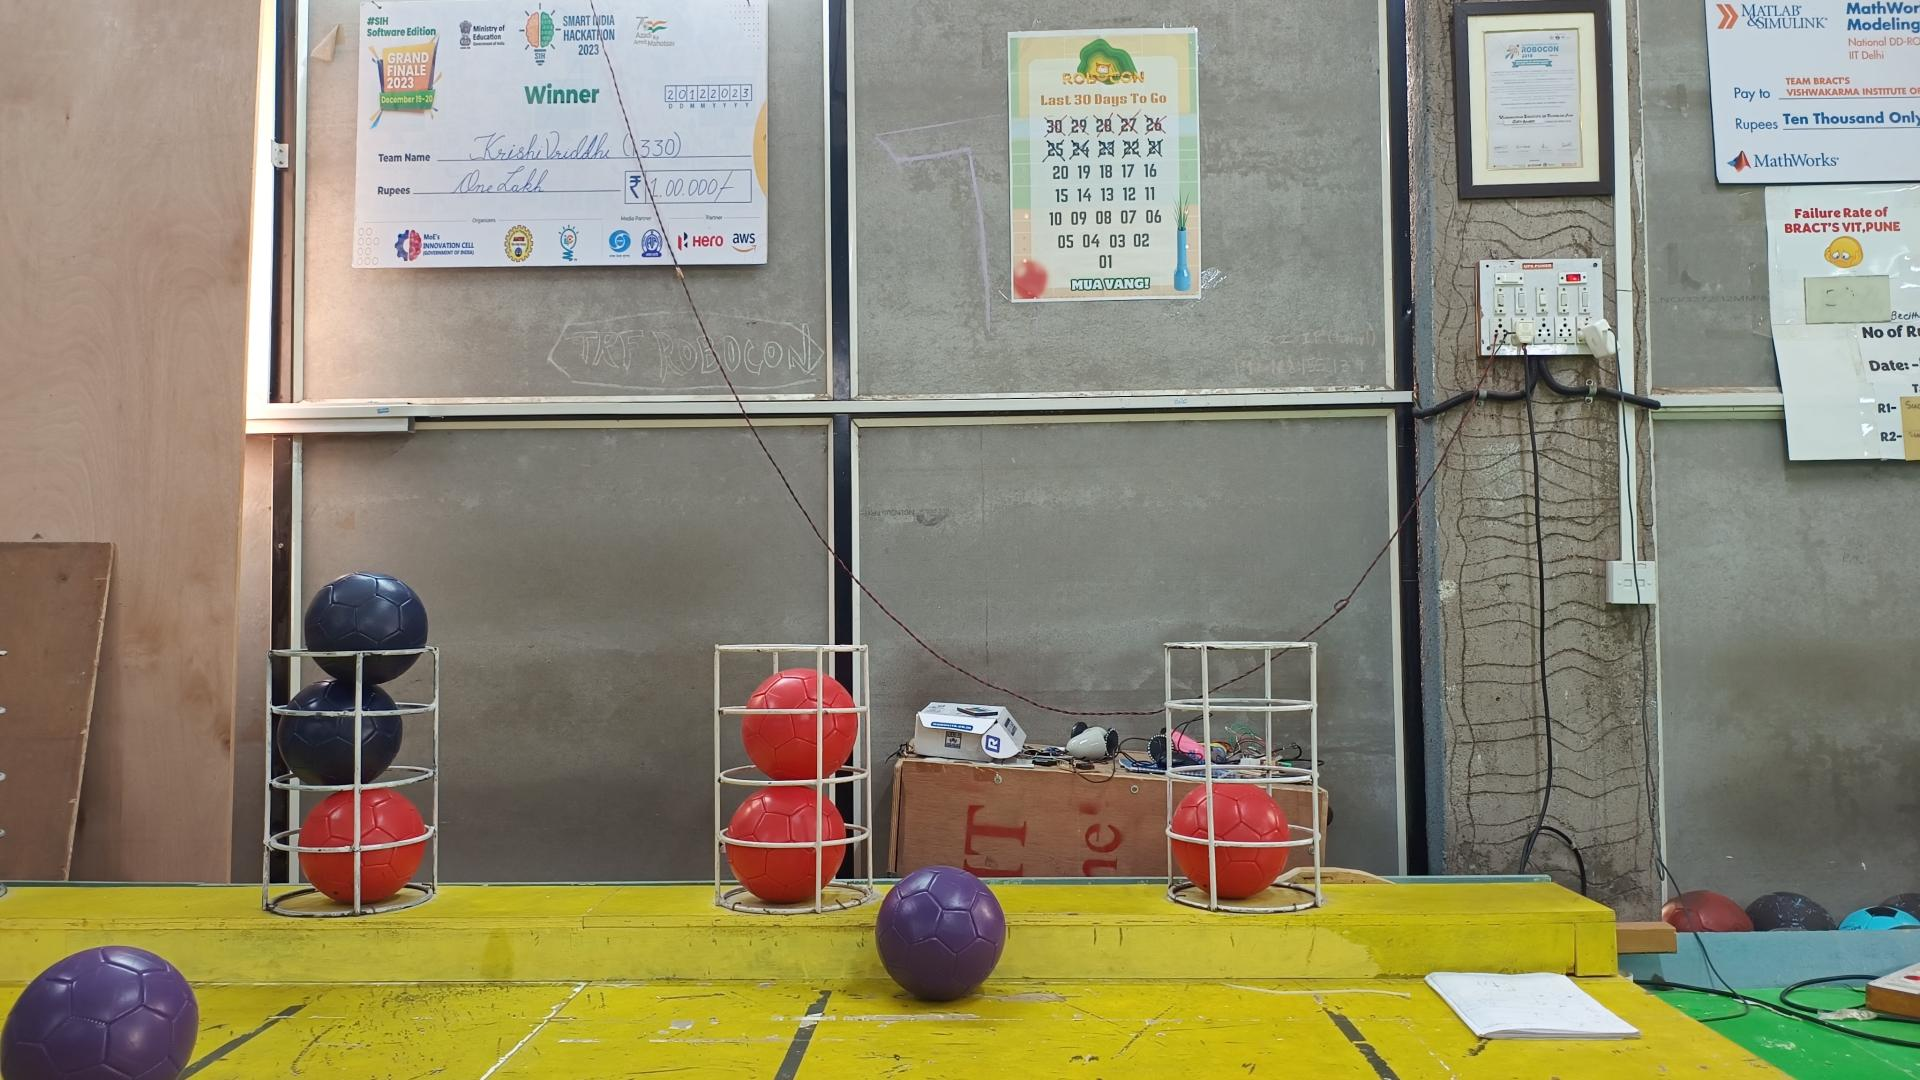dhoka: (303, 571, 427, 687), (276, 679, 404, 787)
laale: (297, 787, 427, 903), (1170, 781, 1290, 901), (728, 786, 848, 902), (742, 670, 858, 782)
